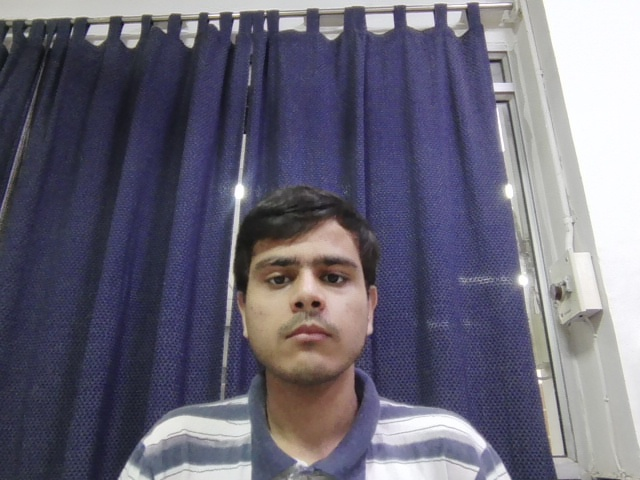face: (236, 185, 382, 380)
